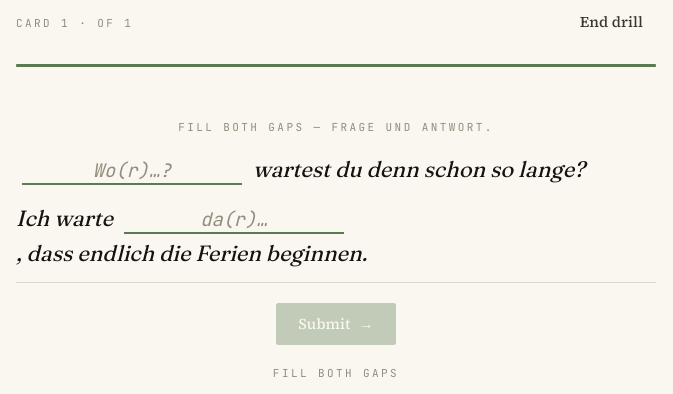
Test: DialogueRunner — smoke tests › disables Submit until both gaps are filled
The width and height of the screenshot is (673, 394).
Check: the button "Submit →" is disabled, box [276, 303, 396, 345]
Type "Worauf" into the field with class "dlg-gap-input" showing "Wo(r)…?" at (132, 171), box [22, 158, 242, 185]
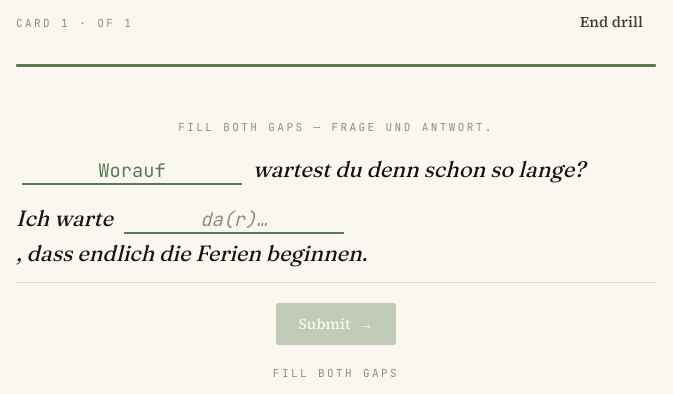
Check: the button "Submit →" is disabled, box [276, 303, 396, 345]
Type "darauf" into the field with class "dlg-gap-input" showing "da(r)…" at (234, 220), box [124, 207, 344, 234]
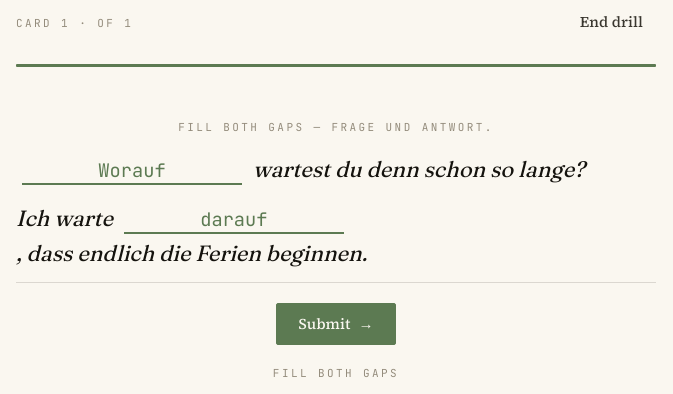
Check: the button "Submit →" is enabled, box [276, 303, 396, 345]
